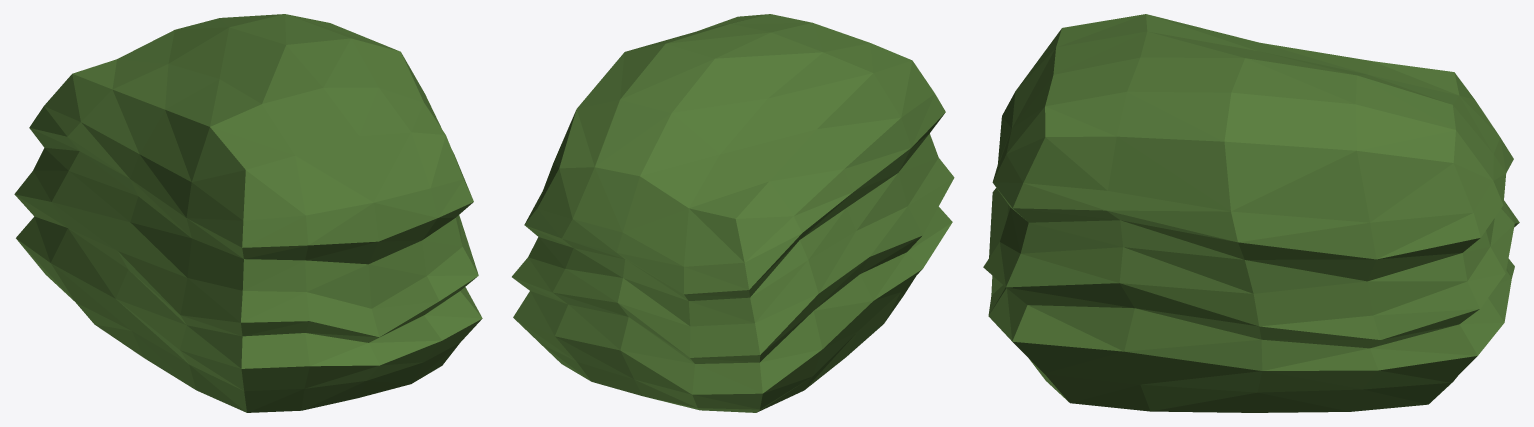
Rendered from Bush_1_1.fbx.
The picture shows the model from 3 angles, left to right: view 1: azimuth 30°, elevation 25°; view 2: azimuth 150°, elevation 25°; view 3: azimuth 270°, elevation 25°; orthographic projection. The views are drawn at different scales.
Parts seen in each view (by area): view 1: Bush_1_1; view 2: Bush_1_1; view 3: Bush_1_1.
Part boxes in pixels (bbox=[...]): Bush_1_1: bbox=[14, 14, 482, 412]; Bush_1_1: bbox=[512, 14, 954, 412]; Bush_1_1: bbox=[983, 14, 1519, 412].
Size of the model in its own units: 1.59 by 1.34 by 2.14.
